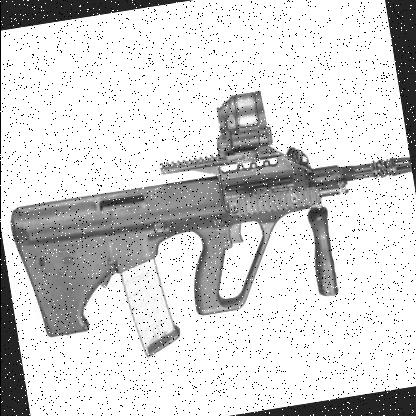rifle: (0, 64, 416, 382)
